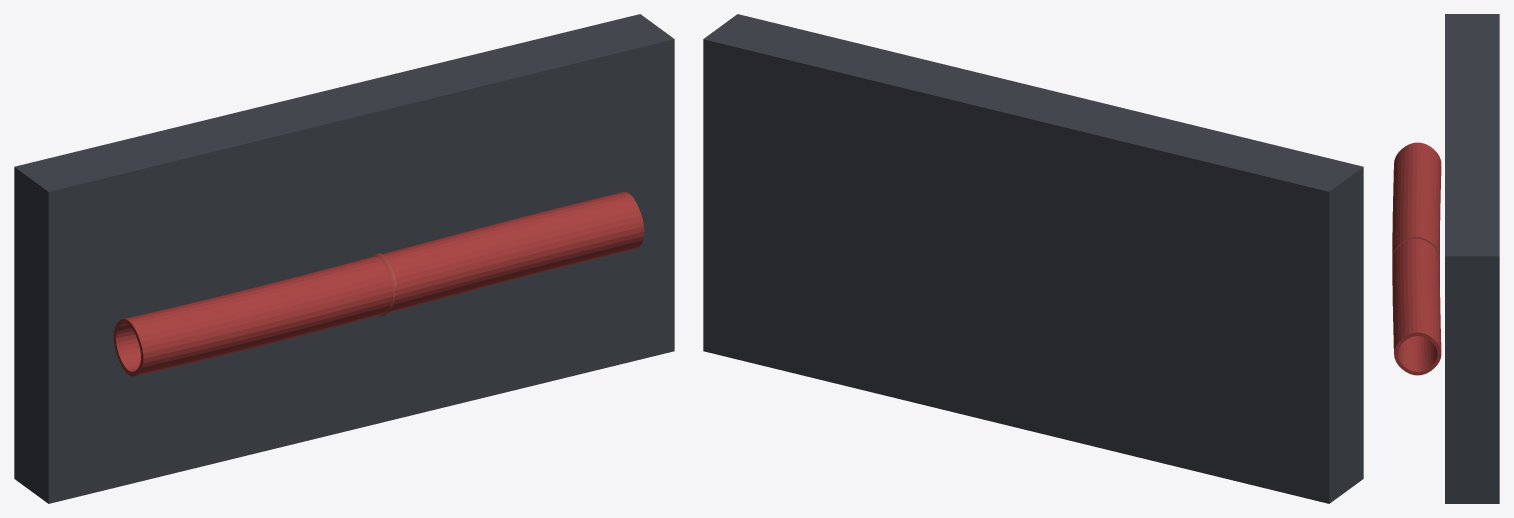
The model's file is dranmar_seal_divide_vessel_intact.glb.
3 views of the same model, side by side, from view 1: azimuth 30°, elevation 25°; view 2: azimuth 150°, elevation 25°; view 3: azimuth 270°, elevation 25° (orthographic). The views are drawn at different scales.
Visible parts, largest first — view 1: FixtureBase, LeftVessel, RightVessel; view 2: FixtureBase; view 3: FixtureBase, RightVessel, LeftVessel.
Boxes of the visible parts, x1,y1,x2,y2 form: FixtureBase: (14,14,674,503); LeftVessel: (113,256,393,376); RightVessel: (382,192,644,312); FixtureBase: (703,14,1363,503); FixtureBase: (1445,14,1499,503); RightVessel: (1392,238,1441,375); LeftVessel: (1392,142,1441,257).
Size of the model in its own units: 0.105 by 0.05 by 0.0196.
